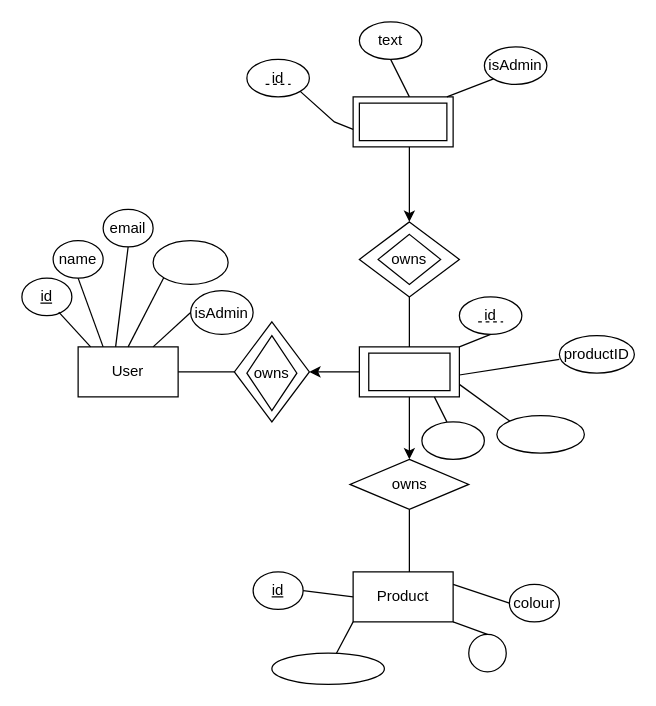
Some shapes in this 656 by 706 pixel diagram are drawn without their labels. The shapes that lost their labels are listed below. From the top down, each one's centre as x and y in pixels, then its label:
At point (402, 121): "Note".
At point (190, 261): "password".
At point (409, 371): "Ticket".
At point (452, 440): "status".
At point (540, 433): "description".
At point (327, 668): "manufacturer".
At point (487, 652): "type".
